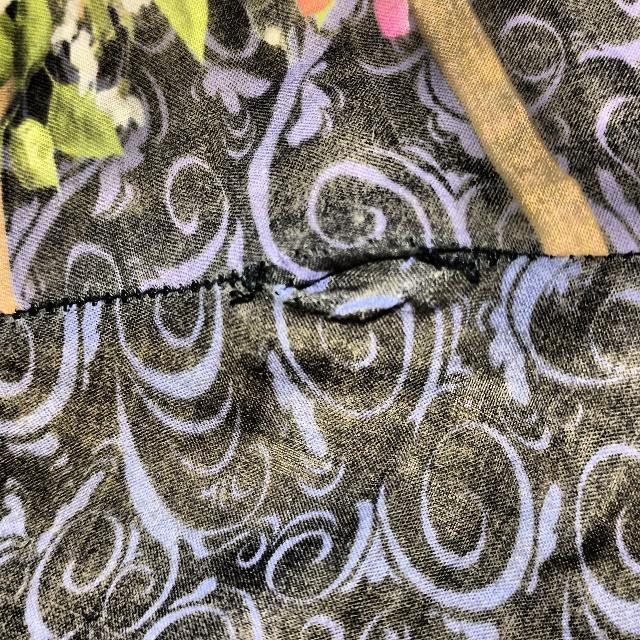gray stitch: (219, 190, 515, 375)
